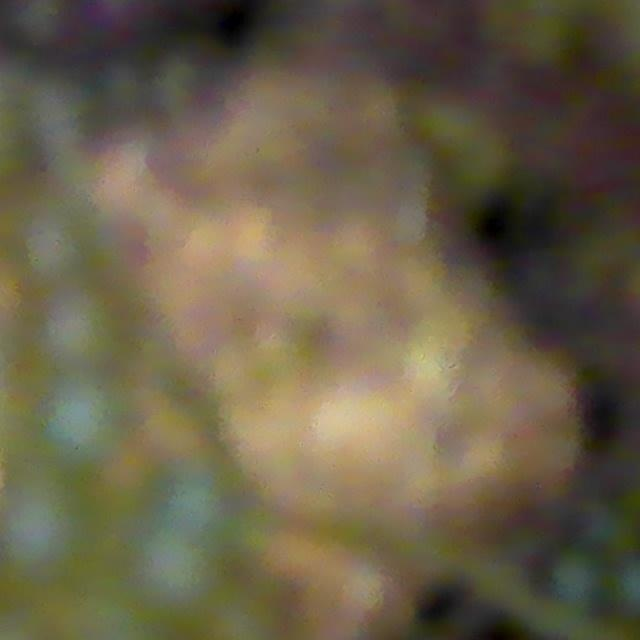SeaGrape: (34, 371, 134, 471), (0, 476, 92, 575), (26, 212, 109, 312), (130, 526, 221, 614), (158, 453, 243, 541), (42, 288, 125, 369), (203, 579, 287, 640), (511, 10, 574, 72), (548, 549, 605, 608), (6, 0, 76, 48)
